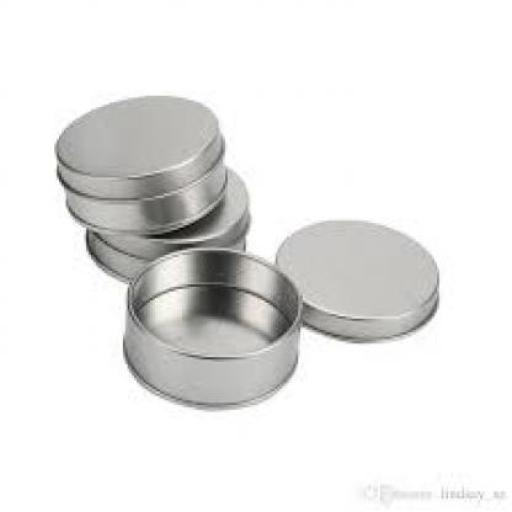metal: (120, 244, 298, 407), (55, 93, 223, 232), (276, 218, 437, 342), (84, 166, 248, 282)
